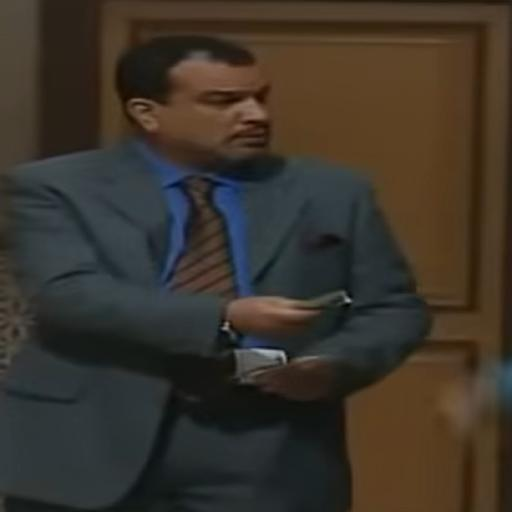slimane: (116, 36, 271, 169)
